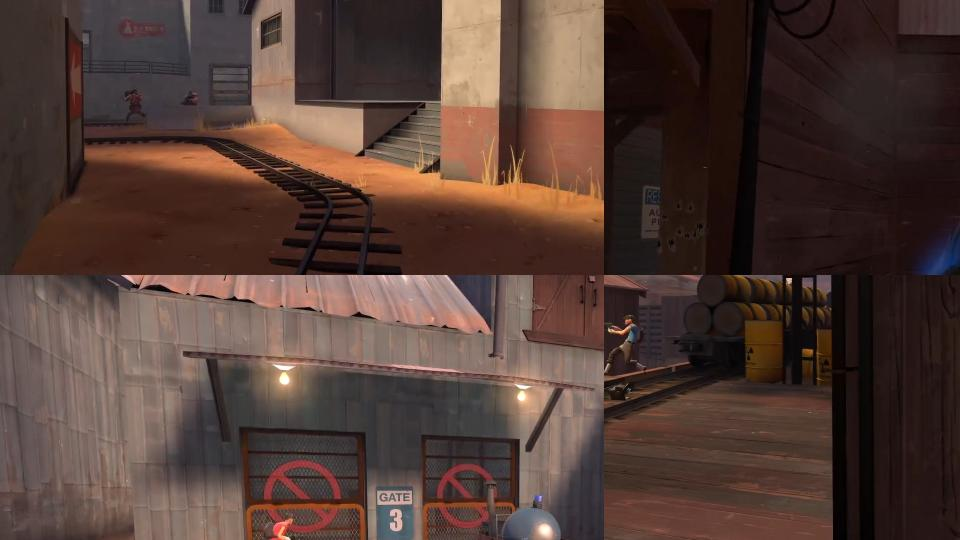Enemy: (604, 314, 650, 378), (262, 514, 307, 540), (123, 87, 148, 126), (180, 89, 200, 108)
